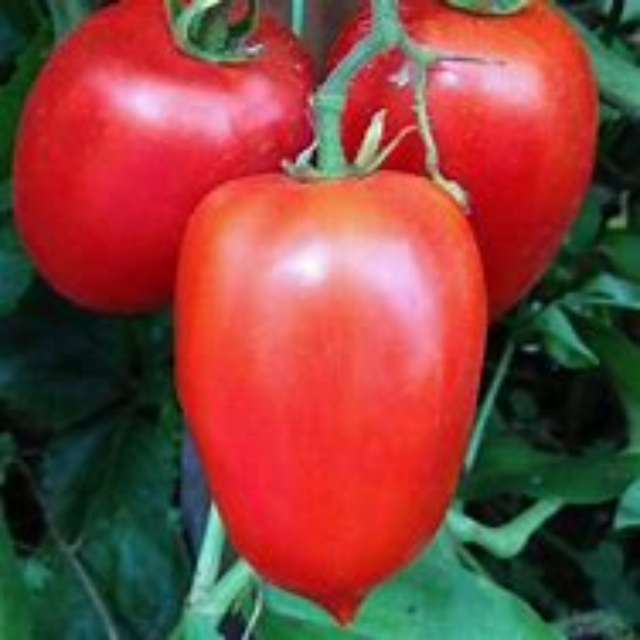tomato: (167, 165, 488, 618), (19, 4, 311, 321), (317, 2, 590, 324)
